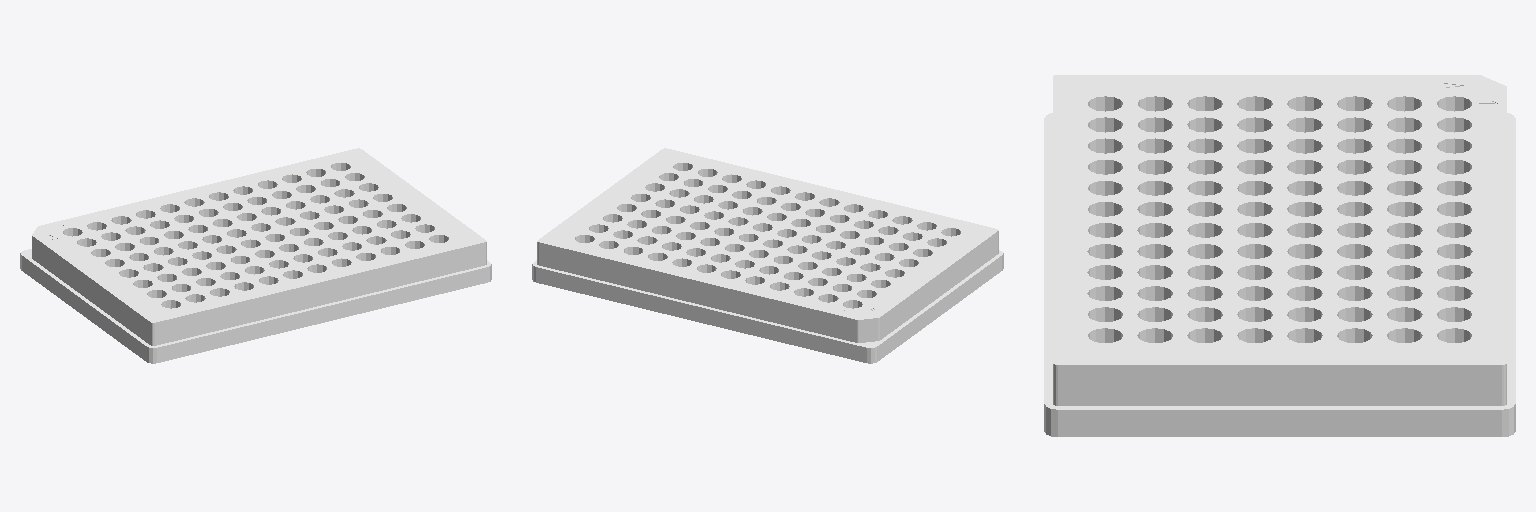
robot.urdf — well_plate:
<?xml version="1.0"?>
<robot name="well_plate">

  <link name="base_link">
    <visual>
      <geometry>
        <mesh filename="parts-meshes/96wellplate.stl" scale="0.001 0.001 0.001" />
      </geometry>
      <material name="white">
        <color rgba="1 1 1 1"/>
      </material>
    </visual>

    <collision>
      <geometry>
        <mesh filename="parts-meshes/96wellplate.stl" scale="0.001 0.001 0.001" />
      </geometry>
    </collision>

    <inertial>
      <mass value="0.1" />
      <inertia ixx="0.01" ixy="0" ixz="0" iyy="0.01" iyz="0" izz="0.01" />
    </inertial>
  </link>
  
</robot>

--- What the picture shows (computed from the rendered views, not written in the file) ---
3 views of the same robot in one strip: view 1: azimuth 30°, elevation 25°; view 2: azimuth 150°, elevation 25°; view 3: azimuth 270°, elevation 25° (orthographic).
Robot: well_plate — 1 links, 0 joints (none); root link base_link; default pose: all joints at 0.
Links seen in each view (by area): view 1: base_link; view 2: base_link; view 3: base_link.
Link boxes in pixels (left/top/right/bottom): base_link: left=20, top=148, right=491, bottom=363; base_link: left=532, top=148, right=1003, bottom=363; base_link: left=1044, top=75, right=1515, bottom=436.
Size in the robot's own frame: 0.127 by 0.085 by 0.0137 metres.
1 mesh visuals loaded from 1 distinct referenced files (1 binary STL).